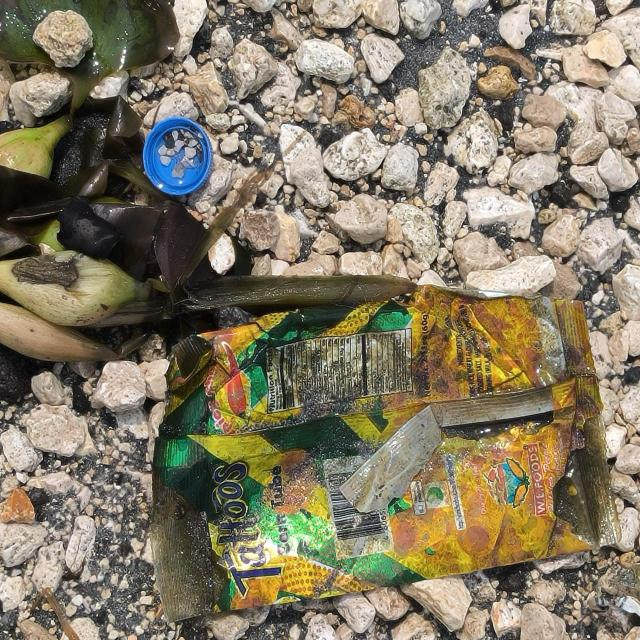plastic_waste: (150, 285, 626, 627), (143, 117, 216, 197)
